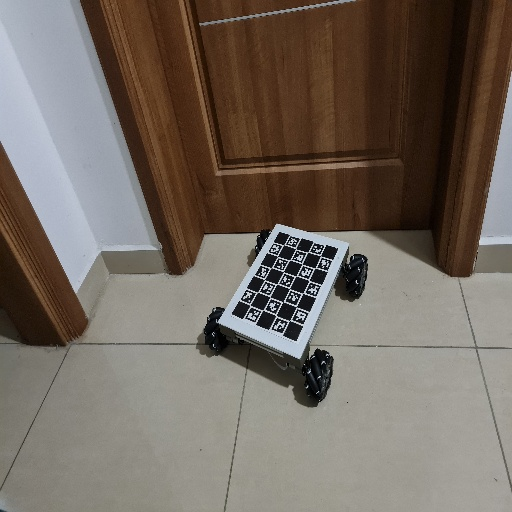Omniwheel: (203, 221, 370, 404)
